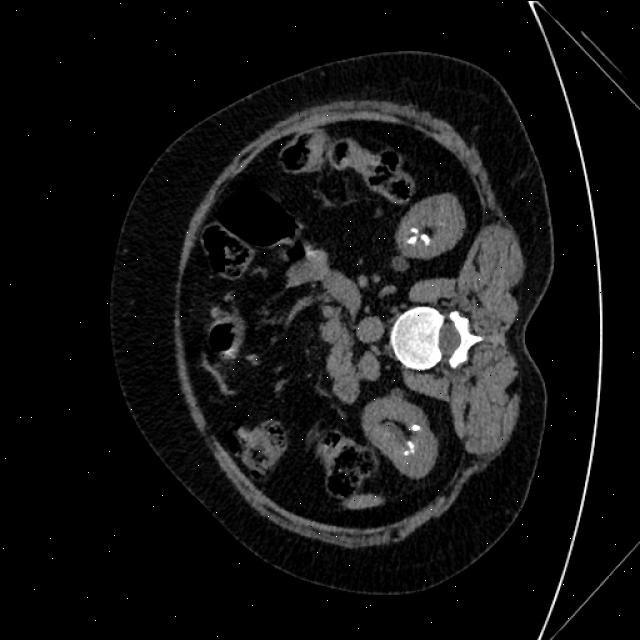kidneystone: (420, 232, 431, 245), (406, 442, 415, 455), (408, 235, 417, 244), (411, 422, 421, 430), (410, 226, 418, 234)
